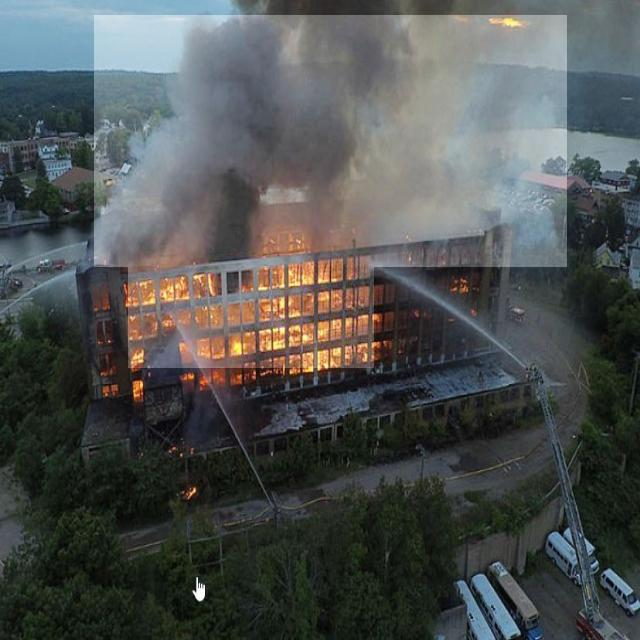Fire: (128, 253, 374, 368)
Smoke: (94, 16, 567, 268)
